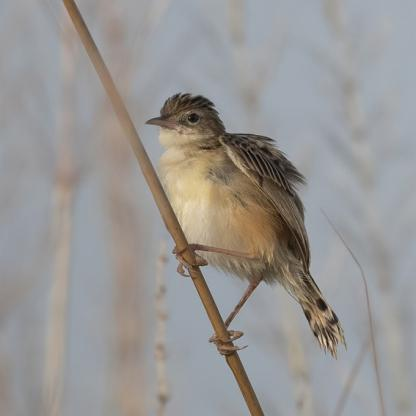Burung: (145, 92, 348, 359)
